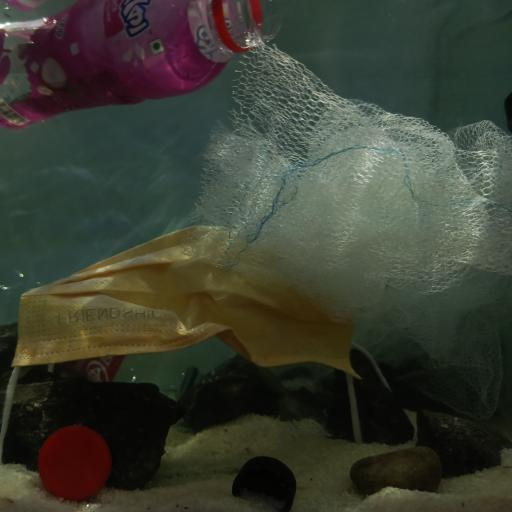bottle_cap: (38, 426, 113, 500), (232, 454, 298, 512)
mask: (7, 223, 366, 392)
net: (176, 32, 496, 420)
plastic_bottle: (0, 0, 281, 127), (0, 263, 197, 394)
